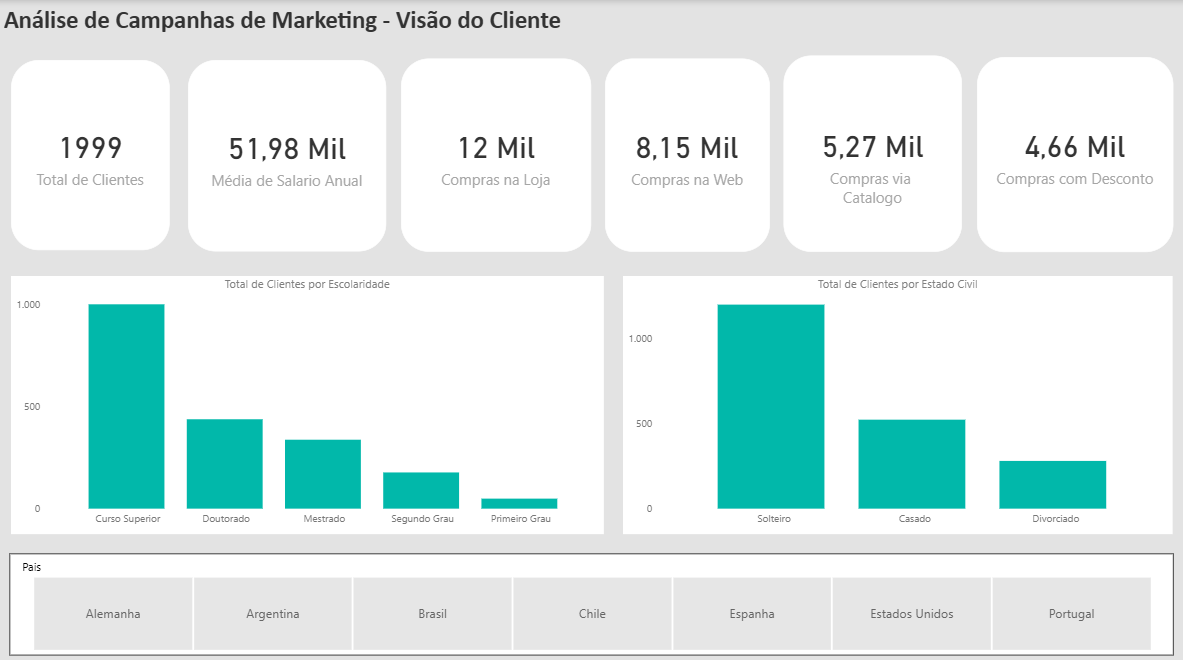

This screenshot's page, from the dashboard's own definition file:
{"tool":"powerbi","page":{"name":"Visão Cliente","canvas":[1280,720],"ordinal":0},"visuals":[{"type":"card","fields":{"Values":["CountNonNull(Dados_Marketing.ID)"]},"box":[13,64.8,171.6,205.6],"z":0},{"type":"card","fields":{"Values":["Avg(Dados_Marketing.Salario Anual)"]},"box":[203.5,65,213.8,207],"z":1000},{"type":"card","fields":{"Values":["Sum(Dados_Marketing.Numero de Compras na Loja)"]},"box":[434.5,63.3,205.3,208.7],"z":2000},{"type":"card","fields":{"Values":["Sum(Dados_Marketing.Numero de Compras na Web)"]},"box":[654.2,63.1,178.1,208.9],"z":3000},{"type":"card","fields":{"Values":["Sum(Dados_Marketing.Numero de Compras com Desconto)"]},"box":[1055.7,61.5,212.1,210.5],"z":4000},{"type":"card","fields":{"Values":["Sum(Dados_Marketing.Numero de Compras via Catalogo)"]},"box":[846.9,59.9,192.7,212.1],"z":5000},{"type":"textbox","box":[0,0,855,61.5],"z":6000},{"type":"columnChart","title":"Total de Clientes por Escolaridade","fields":{"Category":["Dados_Marketing.Escolaridade"],"Y":["CountNonNull(Dados_Marketing.ID)"]},"box":[13.7,297.6,639.7,278.8],"z":7000},{"type":"columnChart","title":"Total de Clientes por Estado Civil","fields":{"Category":["Dados_Marketing.Estado Civil"],"Y":["CountNonNull(Dados_Marketing.ID)"]},"box":[673.9,297.6,593.5,278.8],"z":8000},{"type":"slicer","fields":{"Values":["Dados_Marketing.Pais"]},"box":[11.3,597.5,1256.5,110.1],"z":9000}]}

Visuals, with their boxes in screenshot pixels (x1, y1, x2, y2), scaled from the page's 1280x720 canvas onto the 1183x660 screenshot:
card - CountNonNull(Dados_Marketing.ID): [12, 59, 171, 248]
card - Avg(Dados_Marketing.Salario Anual): [188, 60, 386, 249]
card - Sum(Dados_Marketing.Numero de Compras na Loja): [402, 58, 591, 249]
card - Sum(Dados_Marketing.Numero de Compras na Web): [605, 58, 769, 249]
card - Sum(Dados_Marketing.Numero de Compras com Desconto): [976, 56, 1172, 249]
card - Sum(Dados_Marketing.Numero de Compras via Catalogo): [783, 55, 961, 249]
textbox: [0, 0, 790, 56]
"Total de Clientes por Escolaridade" columnChart: [13, 273, 604, 528]
"Total de Clientes por Estado Civil" columnChart: [623, 273, 1171, 528]
slicer - Dados_Marketing.Pais: [10, 548, 1172, 649]
